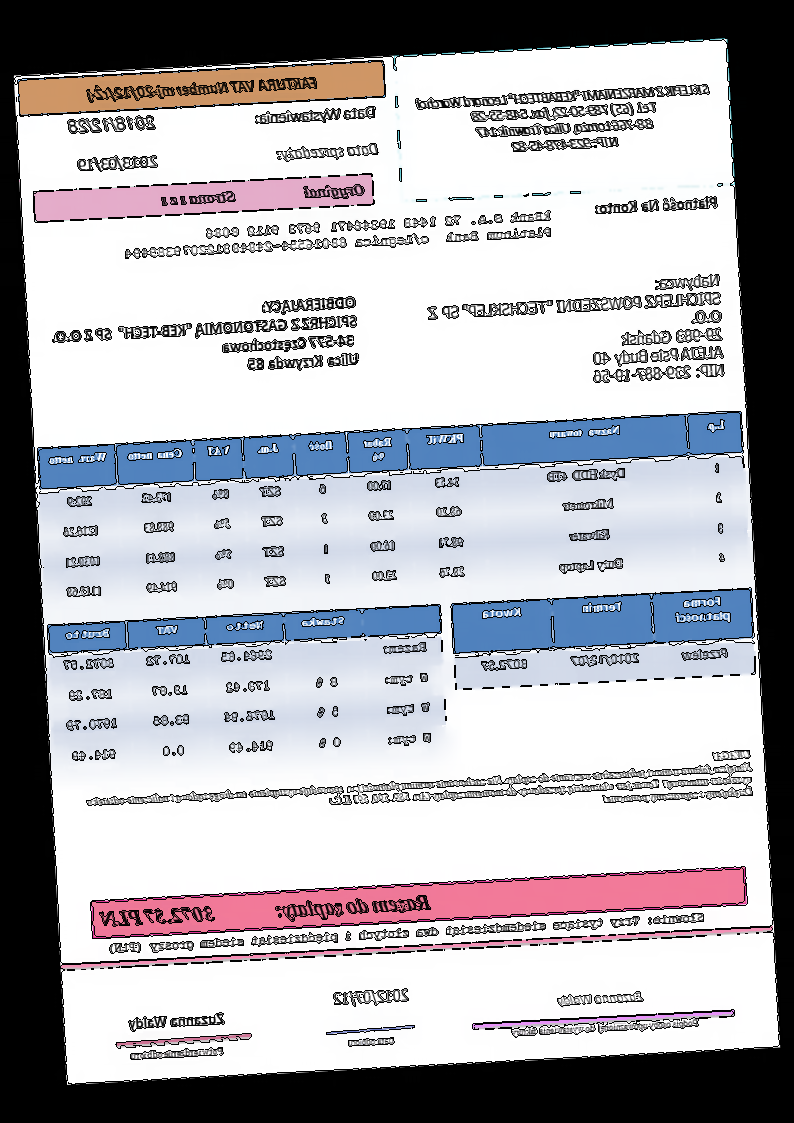Table: (35, 407, 752, 615), (45, 601, 450, 777), (450, 585, 757, 691)
TextBox: (80, 746, 756, 834), (424, 270, 727, 395), (48, 293, 363, 385), (107, 909, 707, 957), (411, 80, 715, 162), (120, 206, 556, 263), (96, 888, 435, 933), (83, 73, 320, 104), (158, 180, 367, 212), (508, 1014, 702, 1040), (252, 101, 379, 130), (272, 137, 384, 165), (591, 194, 720, 217), (125, 1007, 229, 1033), (65, 111, 158, 139), (554, 986, 648, 1010), (128, 1041, 226, 1064), (331, 984, 415, 1009), (75, 152, 162, 175), (345, 1031, 398, 1051)
